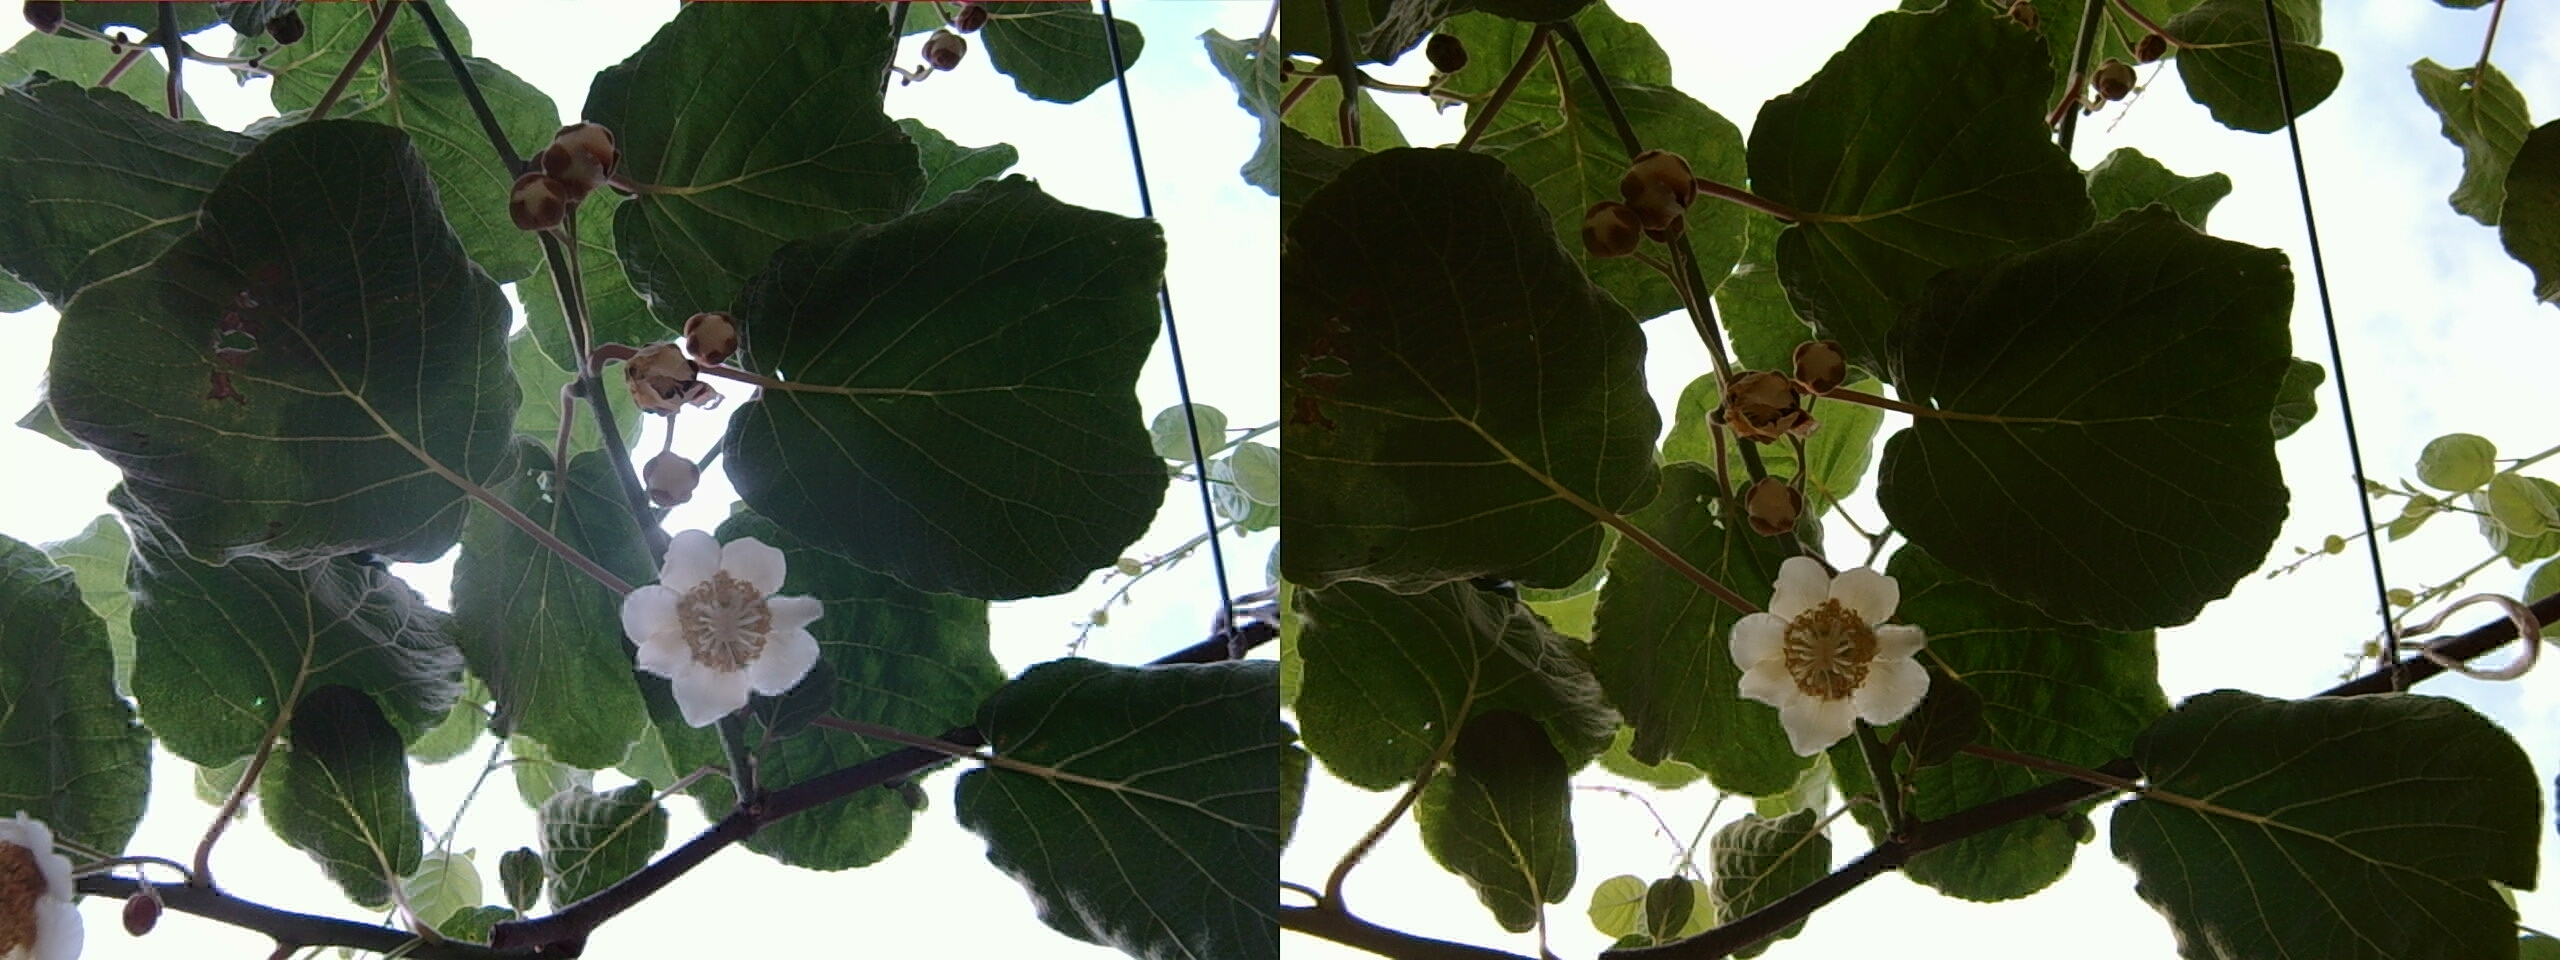flower: (607, 514, 824, 725), (1721, 549, 1930, 748), (0, 815, 77, 952)
